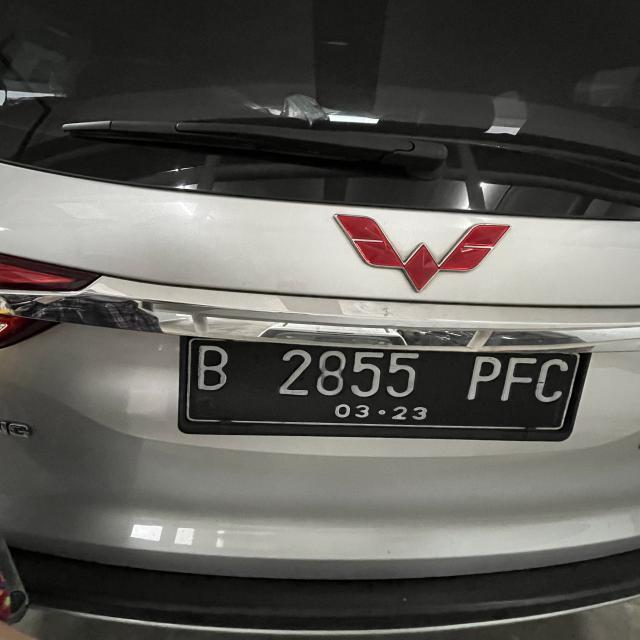2: (280, 348, 310, 402)
5: (386, 351, 418, 397), (351, 351, 382, 398)
8: (318, 351, 343, 405)
B: (198, 339, 230, 392)
C: (536, 360, 569, 400)
F: (501, 355, 533, 403)
P: (464, 357, 500, 400)
